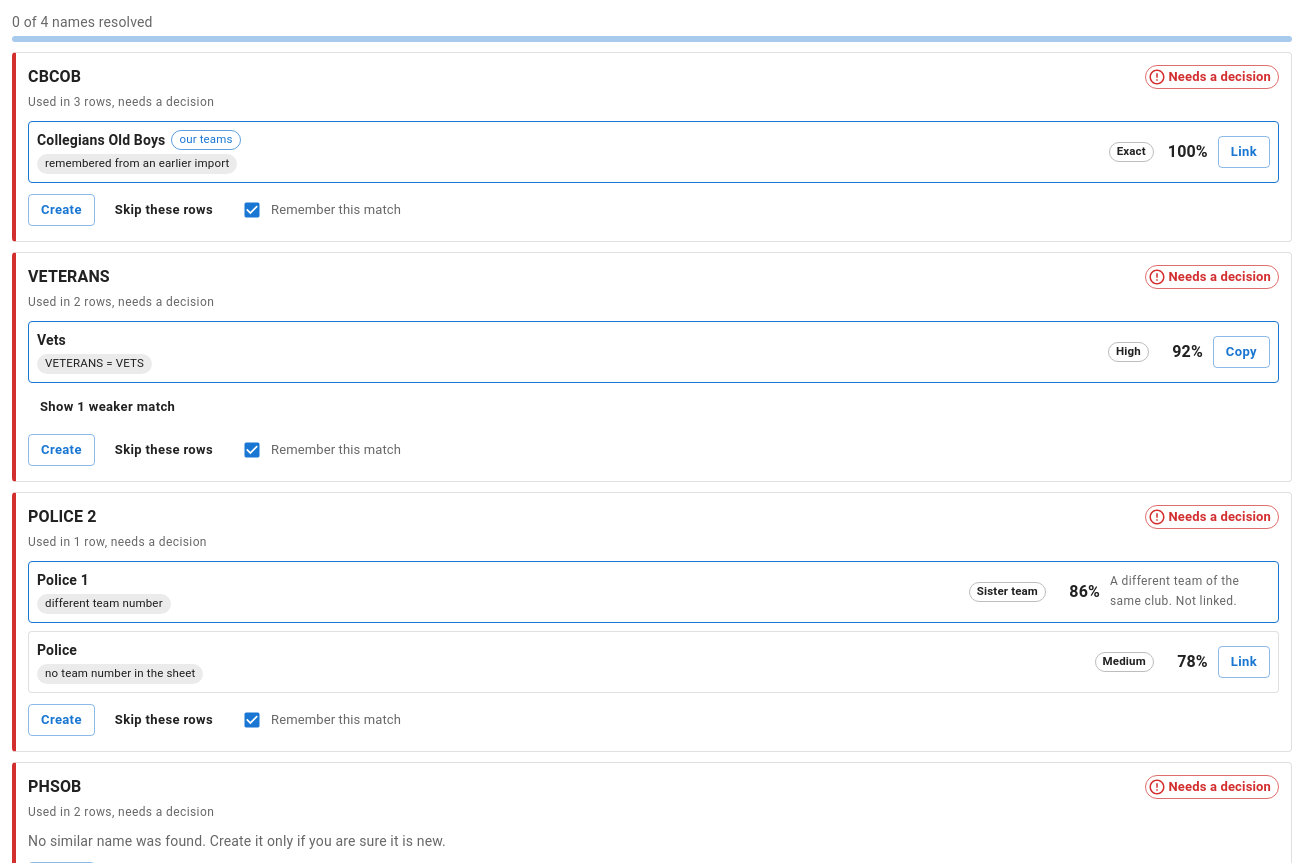
Scenario: ReferenceResolver, schedule candidates › shows a sister team as a hint with no Link action and collapses weak matches
Expected: the element with test id "proposal-POLICE 2-0" shows "Sister team", left=977, top=584, right=1038, bottom=598
Expected: the text "Veterans XI" is not shown
Click the button "Show 1 weaker match".
click(108, 407)  # box left=28, top=391, right=187, bottom=423
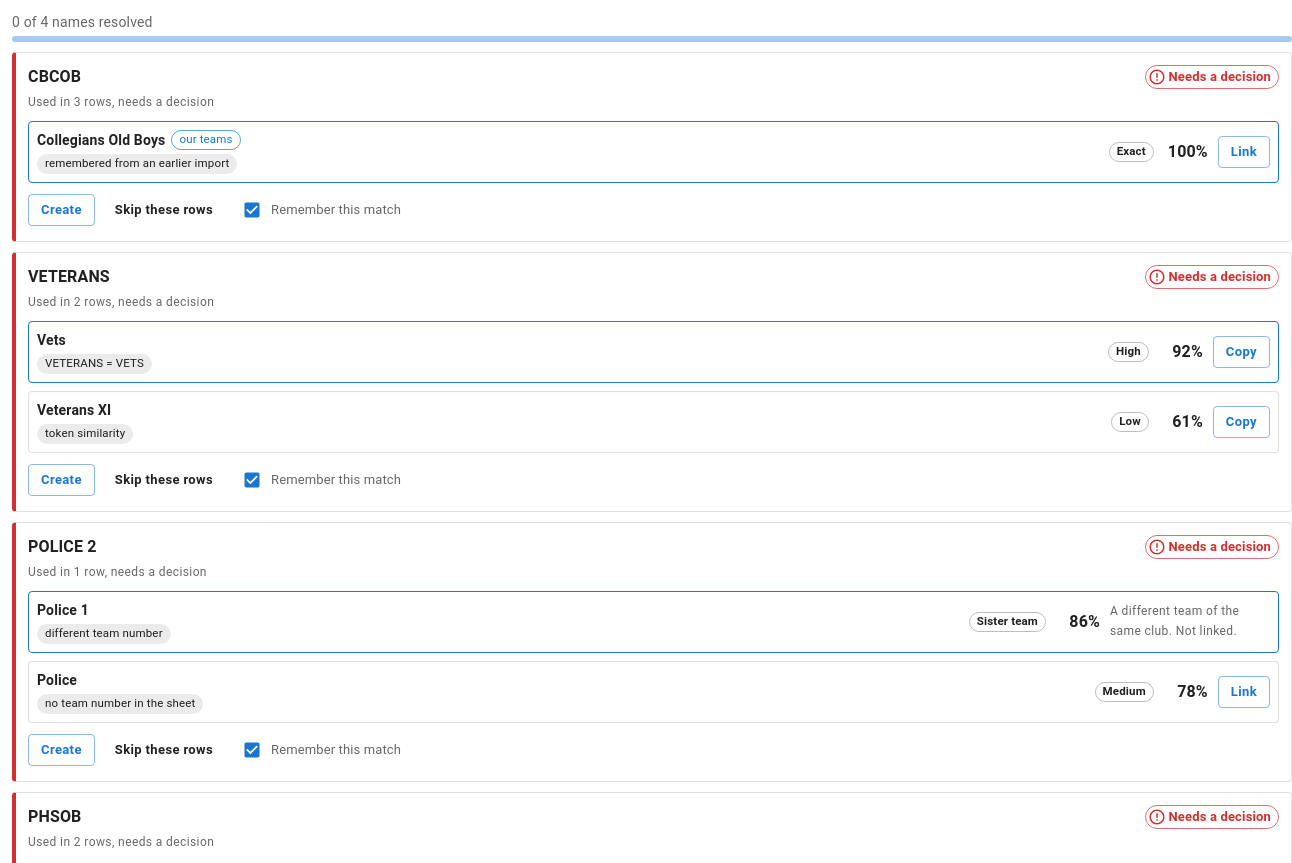
Expected: the text "Veterans XI" is shown, left=37, top=400, right=111, bottom=420
